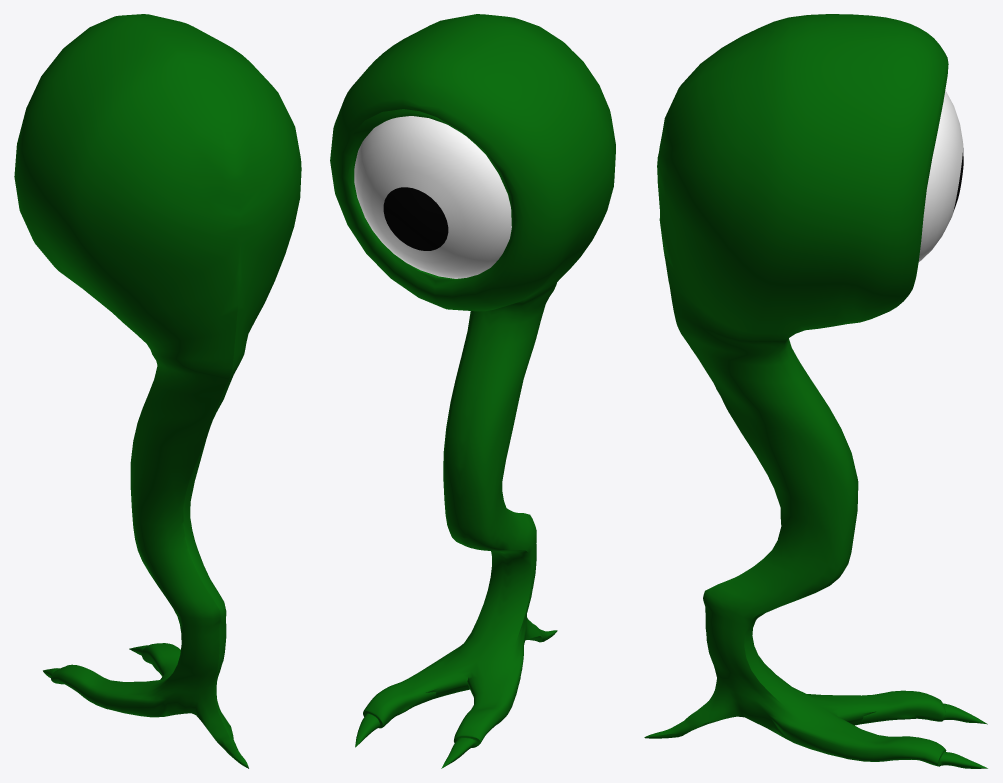
The model's file is lookAt.obj.
3 renders of one model, left to right at view 1: azimuth 30°, elevation 25°; view 2: azimuth 150°, elevation 25°; view 3: azimuth 270°, elevation 25°, orthographic. The views are drawn at different scales.
Visible parts, largest first — view 1: 1; view 2: 1, 2, 3; view 3: 1, 2.
Boxes of the visible parts, bbox=[...] form: 1: bbox=[14, 14, 301, 768]; 1: bbox=[330, 14, 615, 768]; 2: bbox=[354, 116, 511, 278]; 3: bbox=[383, 187, 448, 250]; 1: bbox=[644, 14, 987, 768]; 2: bbox=[918, 91, 963, 261].
Size of the model in its own units: 0.3743 by 1 by 0.4329.
